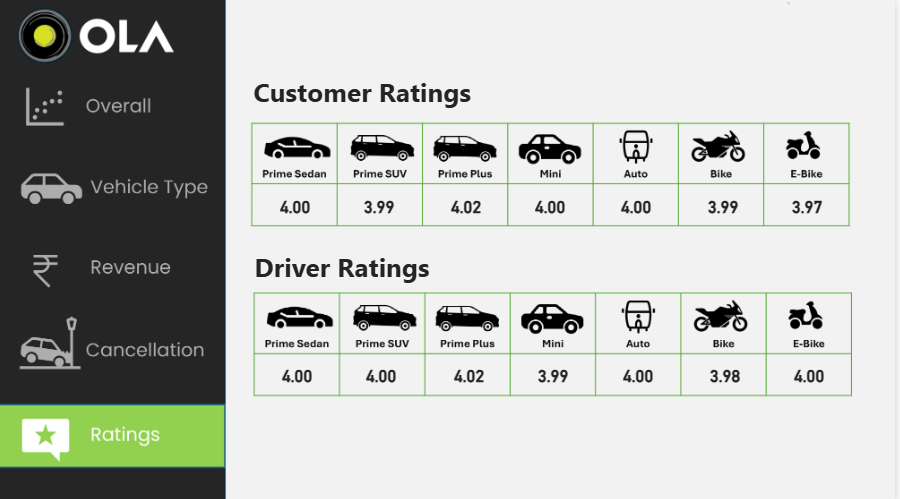

The dashboard page shown, as its layout file describes it:
{"tool":"powerbi","page":{"name":"Rating","canvas":[1280,720],"ordinal":4},"visuals":[{"type":"actionButton","box":[0,220,323.3,88.3],"z":0},{"type":"actionButton","box":[0,111.7,323.3,88.3],"z":1000},{"type":"actionButton","box":[0,336.7,323.3,88.3],"z":2000},{"type":"actionButton","box":[0,446.7,323.3,88.3],"z":3000},{"type":"actionButton","box":[0,578.3,323.3,88.3],"z":4000},{"type":"textbox","box":[360,350,328.3,75],"z":5000},{"type":"textbox","box":[358.3,100,426.7,75],"z":6000},{"type":"cardVisual","fields":{"Data":["Avg(July.Customer_Rating)"]},"box":[480,261.7,126.7,60],"z":7000},{"type":"cardVisual","fields":{"Data":["Avg(July.Customer_Rating)"]},"box":[360,261.7,126.7,60],"z":8000},{"type":"cardVisual","fields":{"Data":["Avg(July.Customer_Rating)"]},"box":[725,261.7,126.7,60],"z":9000},{"type":"cardVisual","fields":{"Data":["Avg(July.Customer_Rating)"]},"box":[605,261.7,126.7,60],"z":10000},{"type":"cardVisual","fields":{"Data":["Avg(July.Customer_Rating)"]},"box":[846.7,261.7,126.7,60],"z":11000},{"type":"cardVisual","fields":{"Data":["Avg(July.Customer_Rating)"]},"box":[1091.7,261.7,126.7,60],"z":12000},{"type":"cardVisual","fields":{"Data":["Avg(July.Customer_Rating)"]},"box":[971.7,261.7,126.7,60],"z":13000},{"type":"cardVisual","fields":{"Data":["Avg(July.Driver_Ratings)"]},"box":[483.3,503.3,126.7,60],"z":14000},{"type":"cardVisual","fields":{"Data":["Avg(July.Driver_Ratings)"]},"box":[363.3,503.3,126.7,60],"z":15000},{"type":"cardVisual","fields":{"Data":["Avg(July.Driver_Ratings)"]},"box":[728.3,503.3,126.7,60],"z":16000},{"type":"cardVisual","fields":{"Data":["Avg(July.Driver_Ratings)"]},"box":[608.3,503.3,126.7,60],"z":17000},{"type":"cardVisual","fields":{"Data":["Avg(July.Driver_Ratings)"]},"box":[850,503.3,126.7,60],"z":18000},{"type":"cardVisual","fields":{"Data":["Avg(July.Driver_Ratings)"]},"box":[1095,503.3,126.7,60],"z":19000},{"type":"cardVisual","fields":{"Data":["Avg(July.Driver_Ratings)"]},"box":[975,503.3,126.7,60],"z":20000},{"type":"slicer","title":"Date","fields":{"Values":["July.Date"]},"box":[975,0,305,11.7],"z":21000}]}

Visuals, with their boxes on the page's 1280x720 design canvas (x1, y1, x2, y2). These are canvas units, not pixel positions in the 900x499 screenshot, which may show the page scaled, cropped or inside an application window:
actionButton: left=0, top=220, right=323, bottom=308
actionButton: left=0, top=112, right=323, bottom=200
actionButton: left=0, top=337, right=323, bottom=425
actionButton: left=0, top=447, right=323, bottom=535
actionButton: left=0, top=578, right=323, bottom=667
textbox: left=360, top=350, right=688, bottom=425
textbox: left=358, top=100, right=785, bottom=175
cardVisual - Avg(July.Customer_Rating): left=480, top=262, right=607, bottom=322
cardVisual - Avg(July.Customer_Rating): left=360, top=262, right=487, bottom=322
cardVisual - Avg(July.Customer_Rating): left=725, top=262, right=852, bottom=322
cardVisual - Avg(July.Customer_Rating): left=605, top=262, right=732, bottom=322
cardVisual - Avg(July.Customer_Rating): left=847, top=262, right=973, bottom=322
cardVisual - Avg(July.Customer_Rating): left=1092, top=262, right=1218, bottom=322
cardVisual - Avg(July.Customer_Rating): left=972, top=262, right=1098, bottom=322
cardVisual - Avg(July.Driver_Ratings): left=483, top=503, right=610, bottom=563
cardVisual - Avg(July.Driver_Ratings): left=363, top=503, right=490, bottom=563
cardVisual - Avg(July.Driver_Ratings): left=728, top=503, right=855, bottom=563
cardVisual - Avg(July.Driver_Ratings): left=608, top=503, right=735, bottom=563
cardVisual - Avg(July.Driver_Ratings): left=850, top=503, right=977, bottom=563
cardVisual - Avg(July.Driver_Ratings): left=1095, top=503, right=1222, bottom=563
cardVisual - Avg(July.Driver_Ratings): left=975, top=503, right=1102, bottom=563
"Date" slicer: left=975, top=0, right=1280, bottom=12
